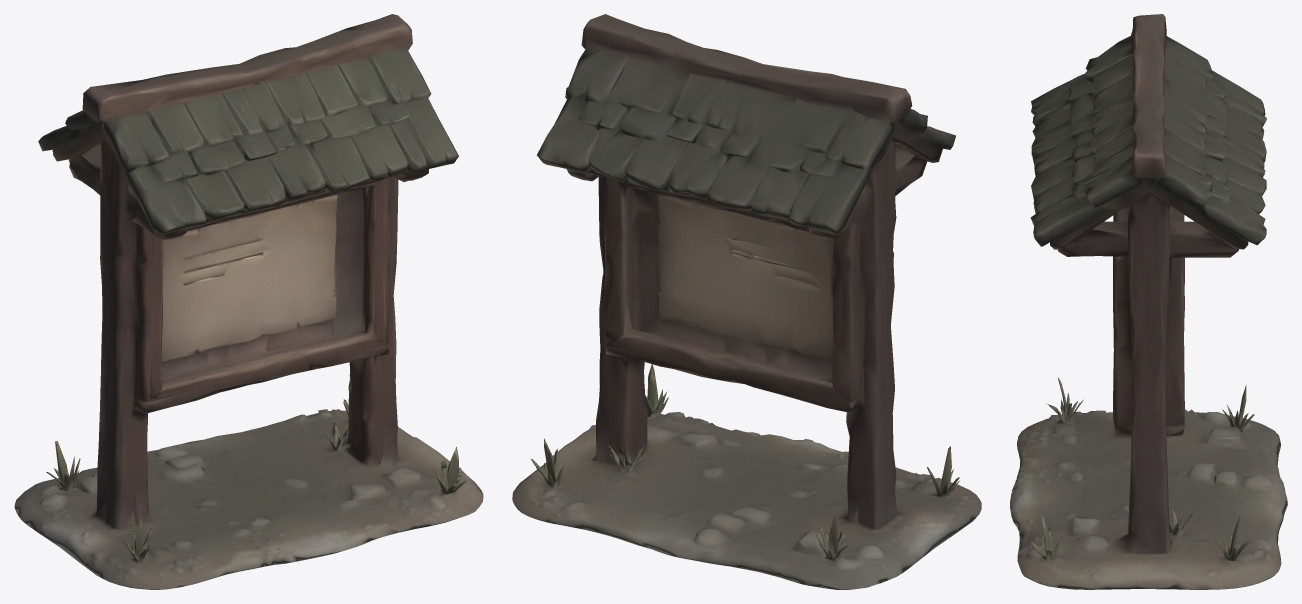
The model's file is conservation_office_noticeboard.glb.
3 renders of one model, left to right at view 1: azimuth 30°, elevation 25°; view 2: azimuth 150°, elevation 25°; view 3: azimuth 270°, elevation 25°, orthographic. The views are drawn at different scales.
Parts seen in each view (by area): view 1: tripo_node_2bd74c00-7ed4-4296-a690-db53213fe8dd; view 2: tripo_node_2bd74c00-7ed4-4296-a690-db53213fe8dd; view 3: tripo_node_2bd74c00-7ed4-4296-a690-db53213fe8dd.
Boxes of the visible parts, bbox=[...] form: tripo_node_2bd74c00-7ed4-4296-a690-db53213fe8dd: bbox=[14, 14, 483, 589]; tripo_node_2bd74c00-7ed4-4296-a690-db53213fe8dd: bbox=[512, 14, 981, 589]; tripo_node_2bd74c00-7ed4-4296-a690-db53213fe8dd: bbox=[1010, 14, 1287, 589].
Size of the model in its own units: 0.8829 by 1 by 0.5957.
1 material, 1 textured.
